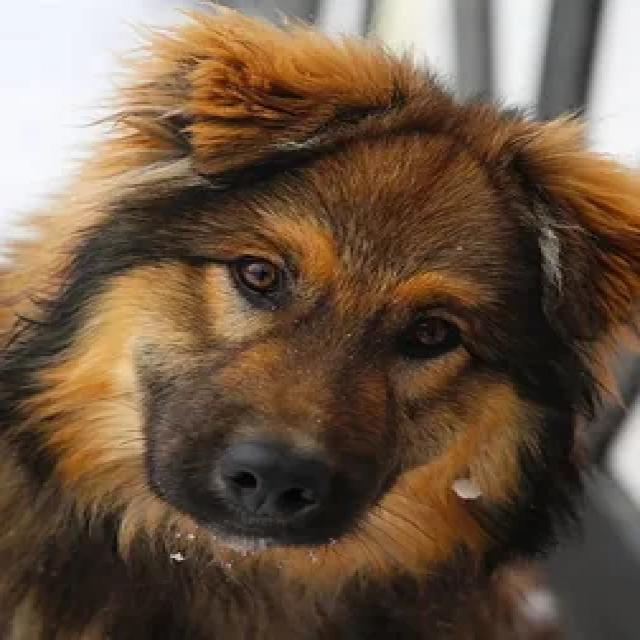Dog: (48, 100, 533, 578)
